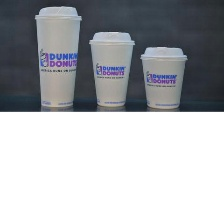paper_cup: (30, 2, 84, 110), (86, 28, 137, 109), (137, 43, 191, 111)
